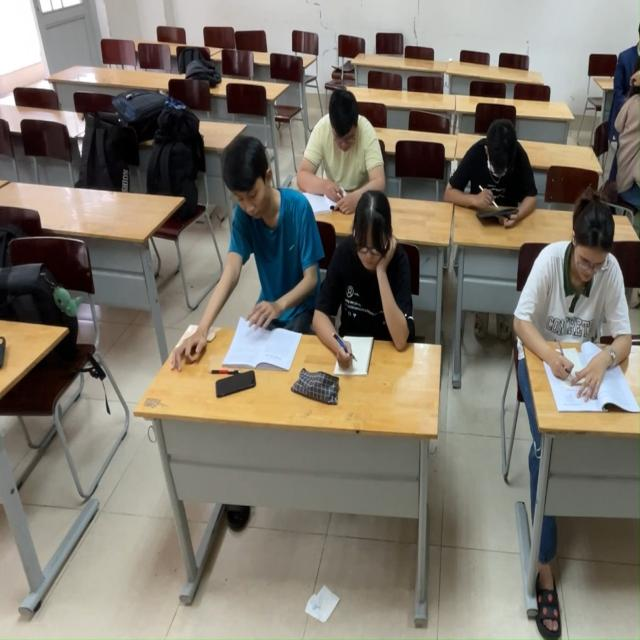read: (513, 192, 640, 420), (208, 142, 308, 387), (313, 197, 429, 390), (445, 108, 541, 235), (305, 91, 386, 214)
